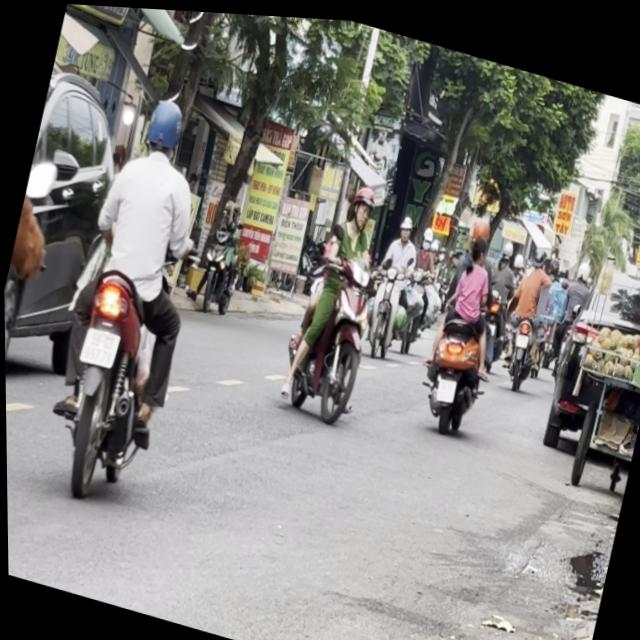helmet: (137, 88, 187, 157), (345, 177, 375, 226), (468, 207, 492, 238)
licenseplate: (22, 74, 234, 514), (268, 164, 400, 426), (404, 199, 522, 437)
motorcyclist: (466, 225, 489, 259)
nohelmet: (77, 322, 118, 367), (433, 368, 456, 397)
